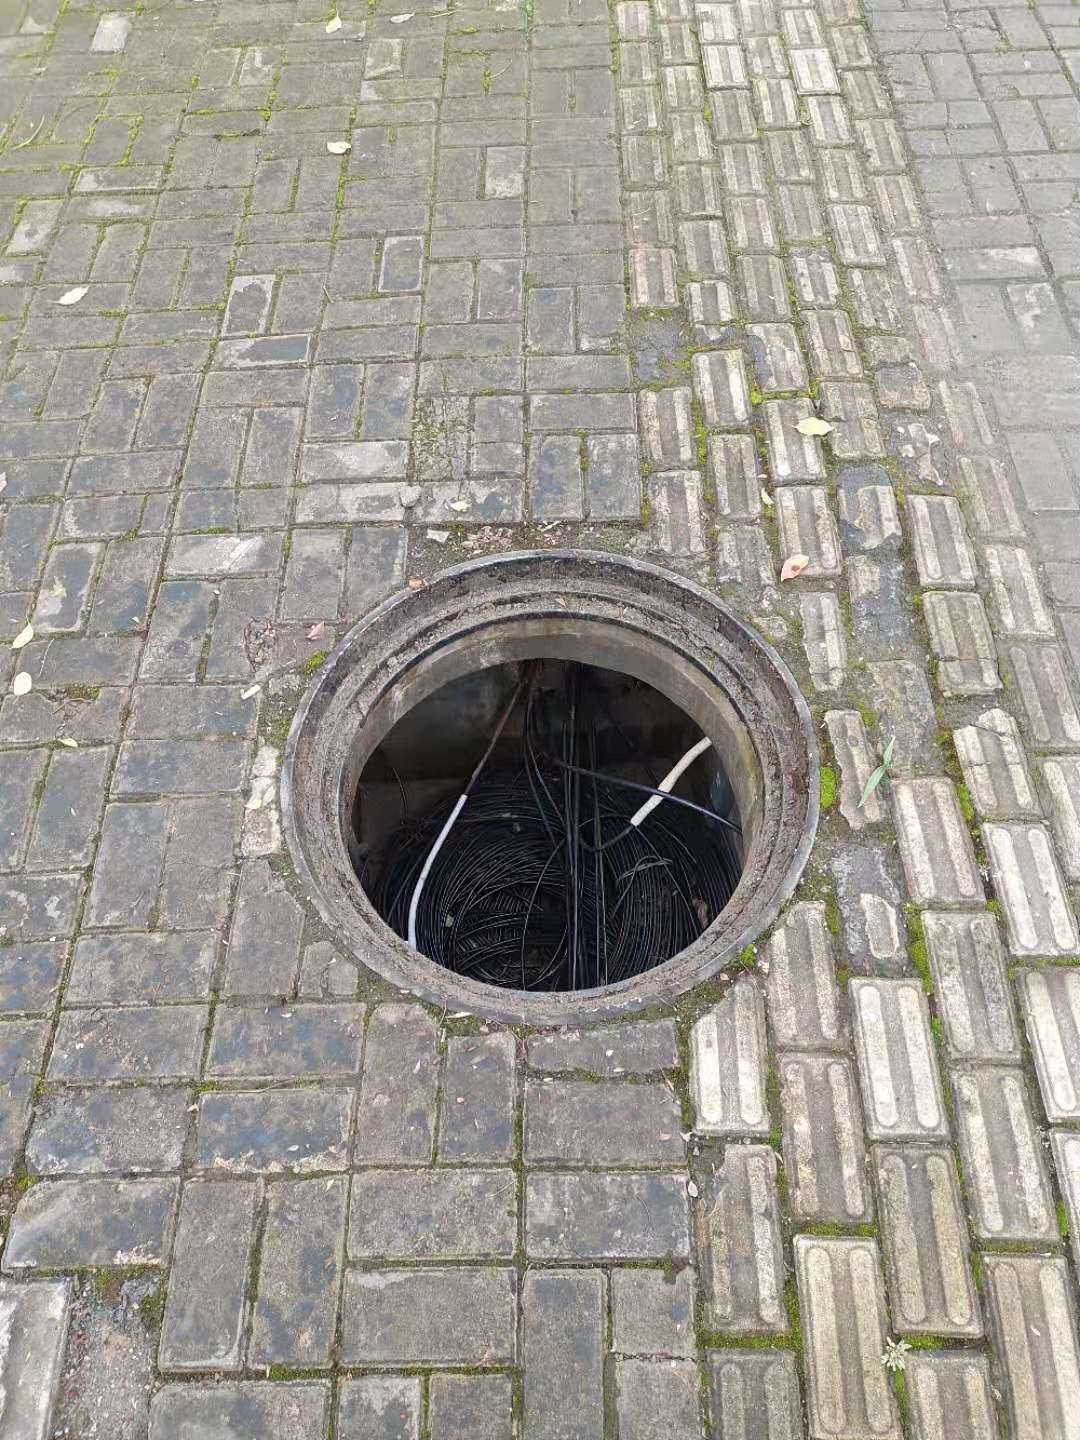lose: (279, 550, 817, 1035)
